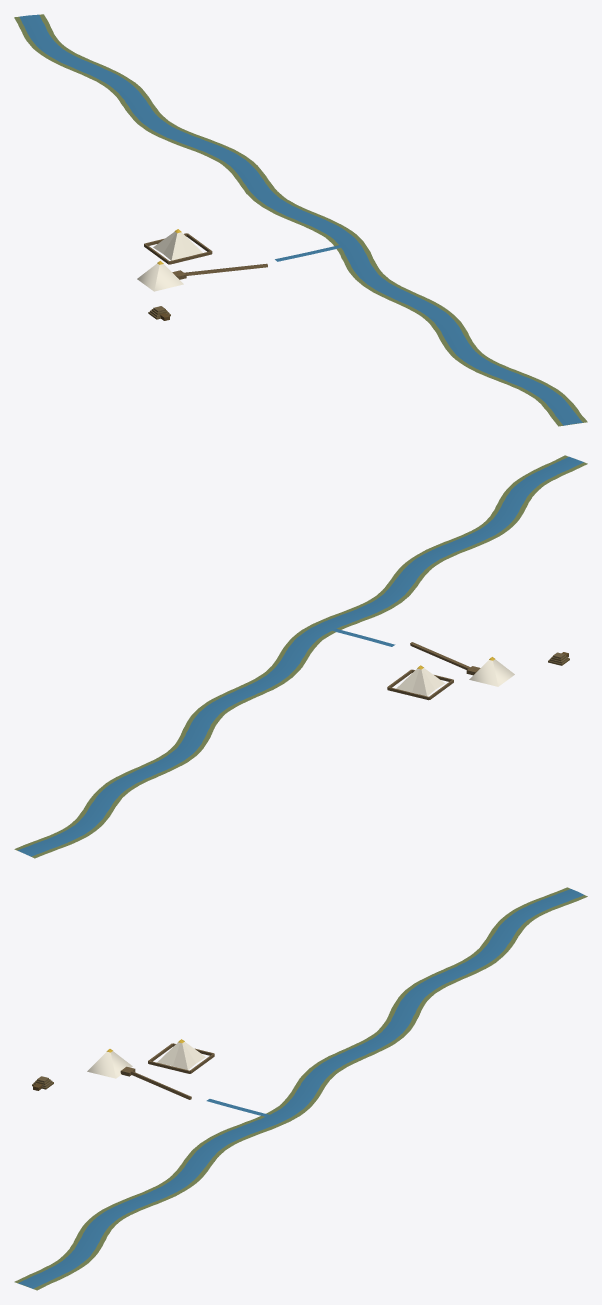
Rendered from giza-b90.glb.
3 renders of one model, top to bottom at view 1: azimuth 30°, elevation 25°; view 2: azimuth 150°, elevation 25°; view 3: azimuth 330°, elevation 25°, orthographic. The views are drawn at different scales.
Size of the model in its own units: 74.03 by 6.44 by 302.
9 materials, 4 textured.
